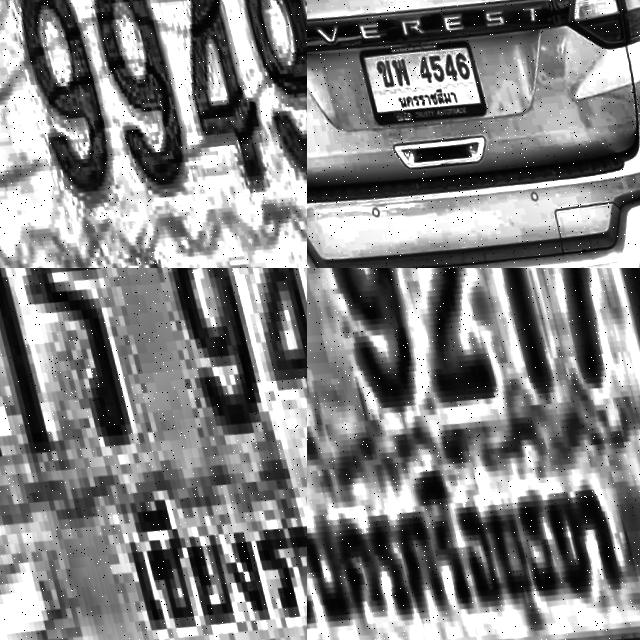license-plate: (307, 268, 640, 640), (0, 268, 307, 640), (0, 0, 307, 268), (346, 24, 484, 131)
